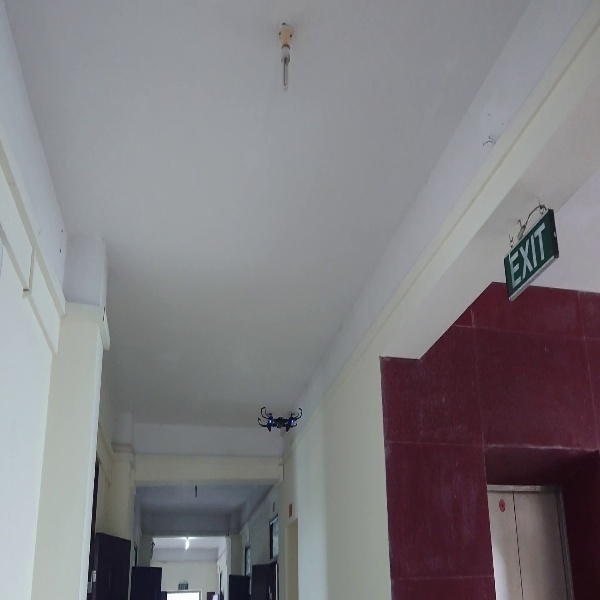drone: (257, 400, 305, 437)
